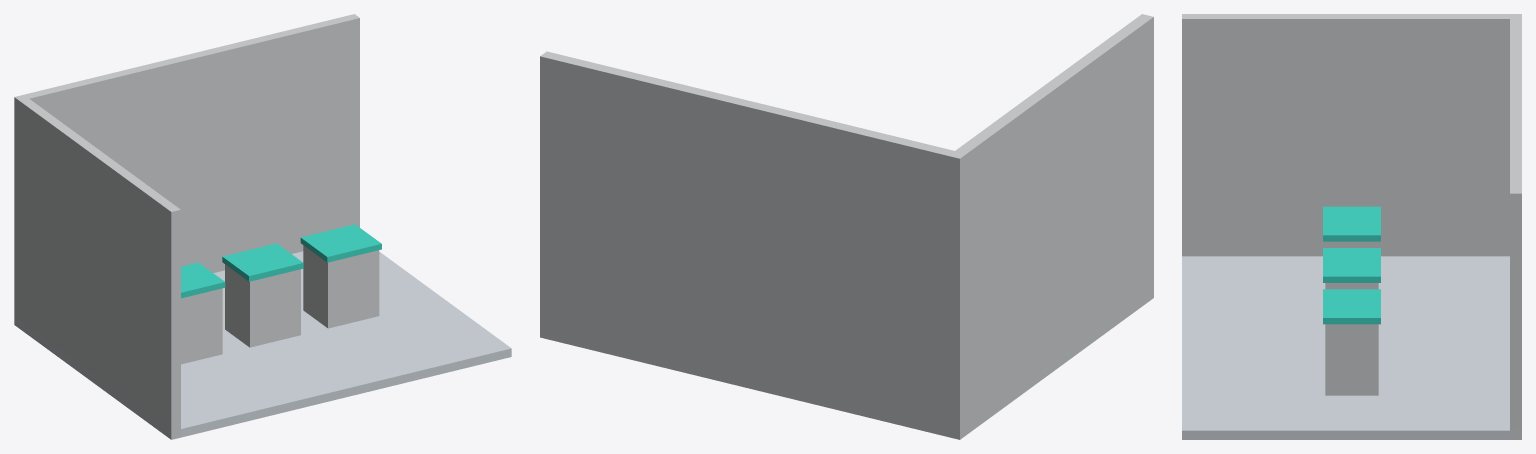
The picture shows the model from 3 angles, left to right: view 1: azimuth 30°, elevation 25°; view 2: azimuth 150°, elevation 25°; view 3: azimuth 270°, elevation 25°; orthographic projection. The views are drawn at different scales.
Visible parts, largest first — view 1: Exhibition Booth Concept; view 2: Exhibition Booth Concept; view 3: Exhibition Booth Concept.
Part boxes in pixels (bbox=[...]): Exhibition Booth Concept: bbox=[14, 14, 511, 439]; Exhibition Booth Concept: bbox=[540, 14, 1153, 439]; Exhibition Booth Concept: bbox=[1182, 14, 1521, 439].
Size of the model in its own units: 5 by 3.2 by 4.
